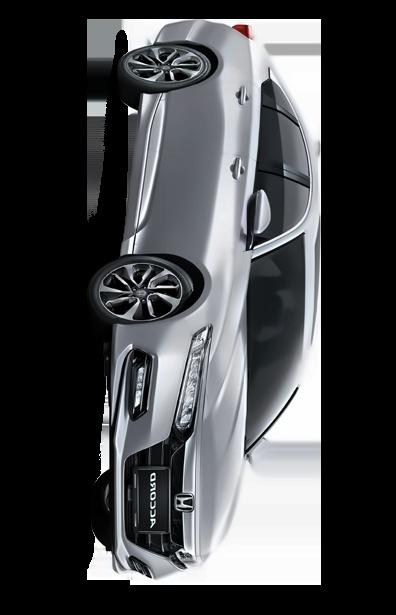Car hood: (196, 249, 256, 567)
Driver-s door - -F-R-: (114, 148, 326, 261)
Fender - -F-R-: (112, 235, 269, 328)
Fender - -R-R-: (153, 20, 290, 91)
Front bumper: (101, 311, 207, 582)
Headlight - -R-: (174, 323, 213, 438)
Passenger-s door - -R-R-: (123, 85, 322, 191)
Side bumper - -R-: (115, 82, 175, 270)
Side mirror - -R-: (236, 185, 273, 246)
